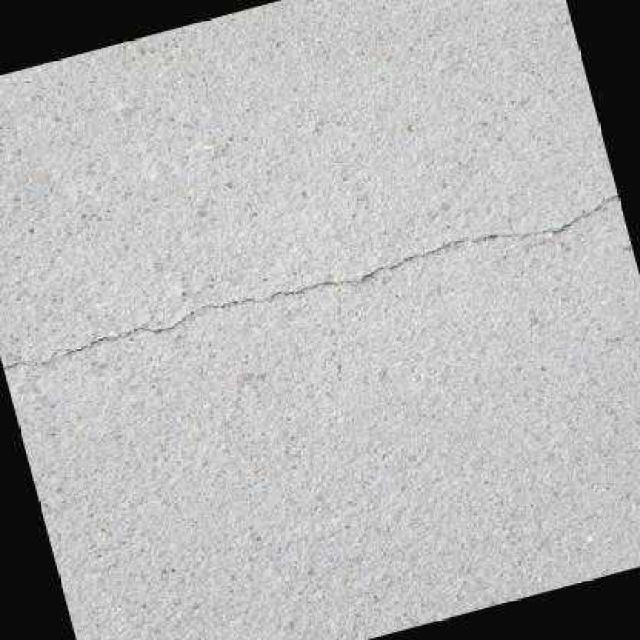D00: (1, 194, 618, 369)
